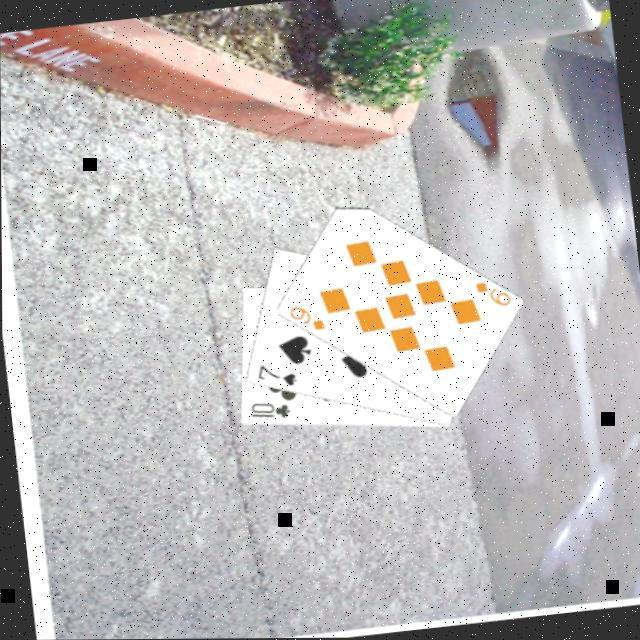10C: (246, 394, 294, 423)
7S: (253, 356, 300, 390)
9D: (285, 297, 328, 335), (472, 274, 515, 310)
